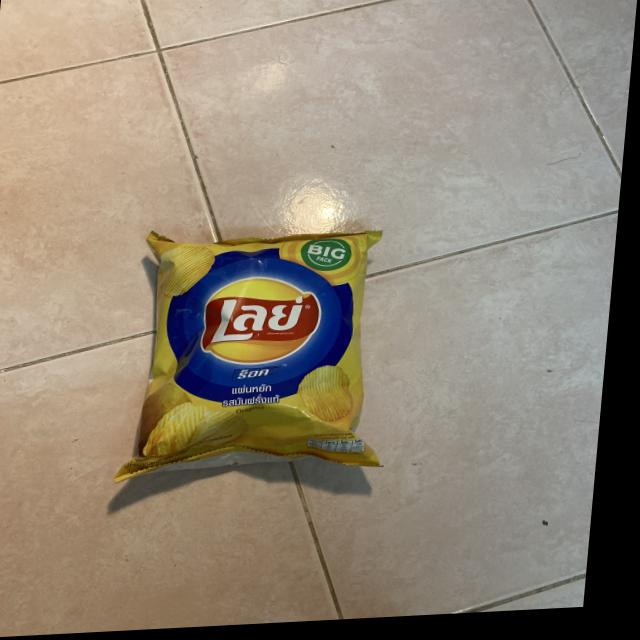LayYellow: (118, 223, 392, 491)
